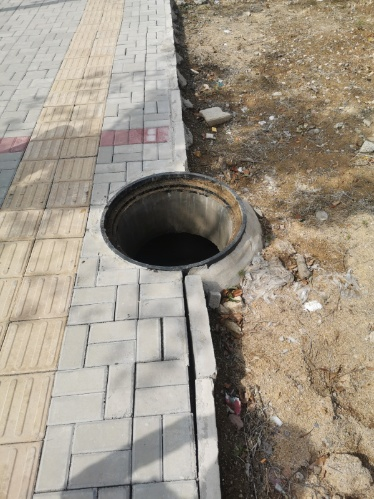lose: (100, 172, 248, 271)
